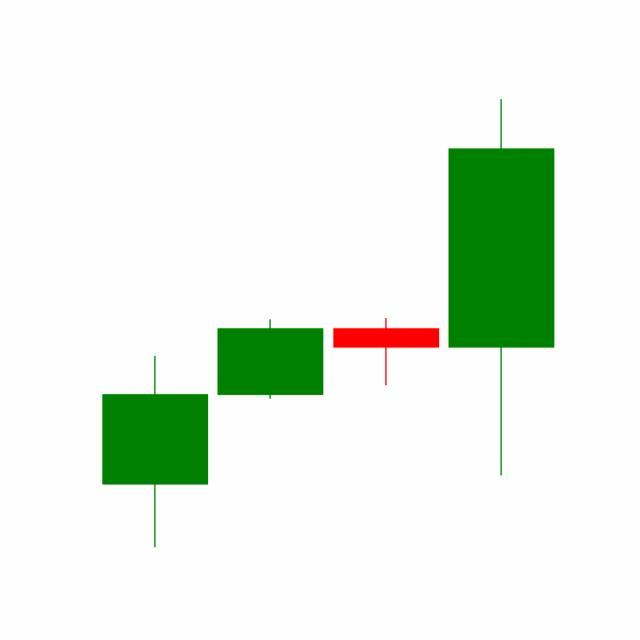Hanging Man: (329, 317, 445, 388)
